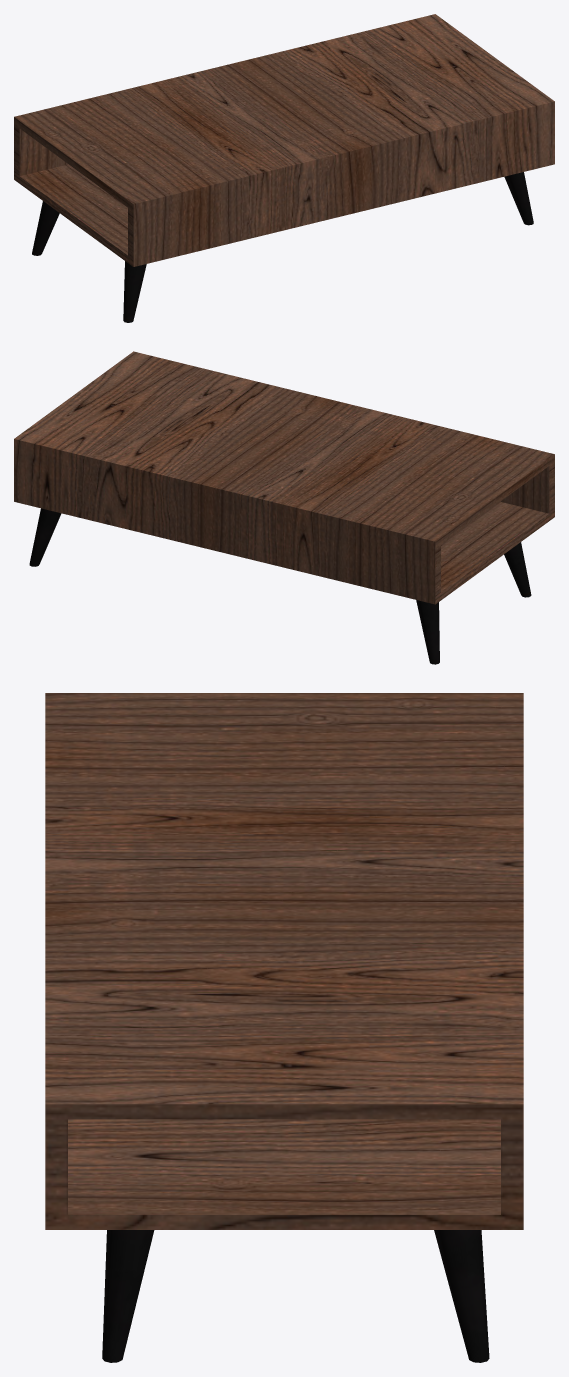
The model's file is CoffeeTable.fbx.
The picture shows the model from 3 angles, top to bottom: view 1: azimuth 30°, elevation 25°; view 2: azimuth 150°, elevation 25°; view 3: azimuth 270°, elevation 25°; orthographic projection. The views are drawn at different scales.
Visible parts, largest first — view 1: Plane.008, Cylinder.017; view 2: Plane.008, Cylinder.017; view 3: Plane.008, Cylinder.017.
Boxes of the visible parts, box(x1,y1,x2,y2) form: Plane.008: box(14, 14, 554, 266); Cylinder.017: box(32, 172, 533, 322); Plane.008: box(14, 351, 554, 604); Cylinder.017: box(29, 508, 531, 664); Plane.008: box(45, 693, 523, 1229); Cylinder.017: box(102, 1230, 489, 1362).
Bounding box in the file's own units: 126 × 37.57 × 61.84.
Materials: 1 (1 with a texture image).
